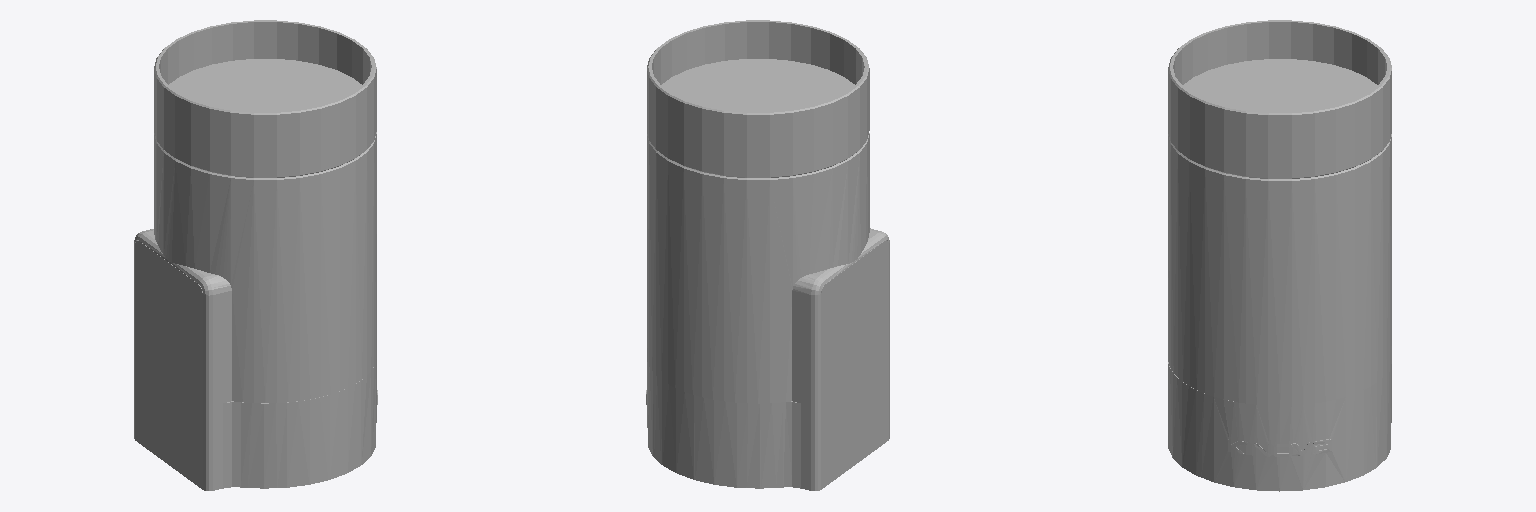
URDF robot description (gen3_robotiq_2f_85):
<?xml version="1.0" ?>
<!-- =================================================================================== -->
<!-- |    This document was autogenerated by xacro from gen3_robotiq_2f_85.xacro       | -->
<!-- |    EDITING THIS FILE BY HAND IS NOT RECOMMENDED                                 | -->
<!-- =================================================================================== -->
<robot name="gen3_robotiq_2f_85">
  <!-- Run the macros -->
  <link name="base_link">
    <inertial>
      <origin rpy="0 0 0" xyz="-0.000648 -0.000166 0.084487"/>
      <mass value="1.697"/>
      <inertia ixx="0.004622" ixy="9E-06" ixz="6E-05" iyy="0.004495" iyz="9E-06" izz="0.002079"/>
    </inertial>
    <visual>
      <origin rpy="0 0 0" xyz="0 0 0"/>
      <geometry>
        <mesh filename="package://kortex_description/arms/gen3/6dof/meshes/base_link.STL"/>
      </geometry>
      <material name="">
        <color rgba="0.75294 0.75294 0.75294 1"/>
      </material>
    </visual>
    <collision>
      <origin rpy="0 0 0" xyz="0 0 0"/>
      <geometry>
        <mesh filename="package://kortex_description/arms/gen3/6dof/meshes/base_link.STL"/>
      </geometry>
    </collision>
  </link>
  <link name="shoulder_link">
    <inertial>
      <origin rpy="0 0 0" xyz="-2.3E-05 -0.010364 -0.07336"/>
      <mass value="1.377"/>
      <inertia ixx="0.00457" ixy="1E-06" ixz="2E-06" iyy="0.004831" iyz="0.000448" izz="0.001409"/>
    </inertial>
    <visual>
      <origin rpy="0 0 0" xyz="0 0 0"/>
      <geometry>
        <mesh filename="package://kortex_description/arms/gen3/6dof/meshes/shoulder_link.STL"/>
      </geometry>
      <material name="">
        <color rgba="0.75294 0.75294 0.75294 1"/>
      </material>
    </visual>
    <collision>
      <origin rpy="0 0 0" xyz="0 0 0"/>
      <geometry>
        <mesh filename="package://kortex_description/arms/gen3/6dof/meshes/shoulder_link.STL"/>
      </geometry>
    </collision>
  </link>
  <joint name="joint_1" type="continuous">
    <origin rpy="-3.1416 0.0 0.0" xyz="0 0 0.15643"/>
    <parent link="base_link"/>
    <child link="shoulder_link"/>
    <axis xyz="0 0 1"/>
    <limit effort="39" velocity="1.3963"/>
  </joint>
  <link name="bicep_link">
    <inertial>
      <origin rpy="0 0 0" xyz="3.5E-05 -0.208207 -0.01889"/>
      <mass value="1.262"/>
      <inertia ixx="0.046752" ixy="-9E-06" ixz="0" iyy="0.00085" iyz="-9.8E-05" izz="0.047188"/>
    </inertial>
    <visual>
      <origin rpy="0 0 0" xyz="0 0 0"/>
      <geometry>
        <mesh filename="package://kortex_description/arms/gen3/6dof/meshes/bicep_link.STL"/>
      </geometry>
      <material name="">
        <color rgba="0.75294 0.75294 0.75294 1"/>
      </material>
    </visual>
    <collision>
      <origin rpy="0 0 0" xyz="0 0 0"/>
      <geometry>
        <mesh filename="package://kortex_description/arms/gen3/6dof/meshes/bicep_link.STL"/>
      </geometry>
    </collision>
  </link>
  <joint name="joint_2" type="revolute">
    <origin rpy="1.5708 0.0 0.0" xyz="0 0.005375 -0.12838"/>
    <parent link="shoulder_link"/>
    <child link="bicep_link"/>
    <axis xyz="0 0 1"/>
    <limit effort="39" lower="-2.41" upper="2.41" velocity="1.3963"/>
  </joint>
  <link name="forearm_link">
    <inertial>
      <origin rpy="0 0 0" xyz="1.8E-05 0.076168 -0.01397"/>
      <mass value="0.93"/>
      <inertia ixx="0.008292" ixy="-1E-06" ixz="0" iyy="0.000628" iyz="0.000432" izz="0.008464"/>
    </inertial>
    <visual>
      <origin rpy="0 0 0" xyz="0 0 0"/>
      <geometry>
        <mesh filename="package://kortex_description/arms/gen3/6dof/meshes/forearm_link.STL"/>
      </geometry>
      <material name="">
        <color rgba="0.75294 0.75294 0.75294 1"/>
      </material>
    </visual>
    <collision>
      <origin rpy="0 0 0" xyz="0 0 0"/>
      <geometry>
        <mesh filename="package://kortex_description/arms/gen3/6dof/meshes/forearm_link.STL"/>
      </geometry>
    </collision>
  </link>
  <joint name="joint_3" type="revolute">
    <origin rpy="3.1416 0 0" xyz="0 -0.41 0"/>
    <parent link="bicep_link"/>
    <child link="forearm_link"/>
    <axis xyz="0 0 1"/>
    <limit effort="39" lower="-2.66" upper="2.66" velocity="1.3963"/>
  </joint>
  <link name="spherical_wrist_1_link">
    <inertial>
      <origin rpy="0 0 0" xyz="-1E-06 0.008486 -0.062937"/>
      <mass value="0.6781"/>
      <inertia ixx="0.001645" ixy="0" ixz="0" iyy="0.001666" iyz="-0.000234" izz="0.000389"/>
    </inertial>
    <visual>
      <origin rpy="0 0 0" xyz="0 0 0"/>
      <geometry>
        <mesh filename="package://kortex_description/arms/gen3/6dof/meshes/spherical_wrist_1_link.STL"/>
      </geometry>
      <material name="">
        <color rgba="0.75294 0.75294 0.75294 1"/>
      </material>
    </visual>
    <collision>
      <origin rpy="0 0 0" xyz="0 0 0"/>
      <geometry>
        <mesh filename="package://kortex_description/arms/gen3/6dof/meshes/spherical_wrist_1_link.STL"/>
      </geometry>
    </collision>
  </link>
  <joint name="joint_4" type="continuous">
    <origin rpy="1.5708 0.0 0.0" xyz="0 0.20843 -0.006375"/>
    <parent link="forearm_link"/>
    <child link="spherical_wrist_1_link"/>
    <axis xyz="0 0 1"/>
    <limit effort="9" velocity="1.2218"/>
  </joint>
  <link name="spherical_wrist_2_link">
    <inertial>
      <origin rpy="0 0 0" xyz="-1E-06 0.046429 -0.008704"/>
      <mass value="0.678"/>
      <inertia ixx="0.001685" ixy="0" ixz="0" iyy="0.0004" iyz="0.000255" izz="0.001696"/>
    </inertial>
    <visual>
      <origin rpy="0 0 0" xyz="0 0 0"/>
      <geometry>
        <mesh filename="package://kortex_description/arms/gen3/6dof/meshes/spherical_wrist_2_link.STL"/>
      </geometry>
      <material name="">
        <color rgba="0.75294 0.75294 0.75294 1"/>
      </material>
    </visual>
    <collision>
      <origin rpy="0 0 0" xyz="0 0 0"/>
      <geometry>
        <mesh filename="package://kortex_description/arms/gen3/6dof/meshes/spherical_wrist_2_link.STL"/>
      </geometry>
    </collision>
  </link>
  <joint name="joint_5" type="revolute">
    <origin rpy="-1.5708 0.0 0.0" xyz="0 -0.00017505 -0.10593"/>
    <parent link="spherical_wrist_1_link"/>
    <child link="spherical_wrist_2_link"/>
    <axis xyz="0 0 1"/>
    <limit effort="9" lower="-2.23" upper="2.23" velocity="1.2218"/>
  </joint>
  <link name="bracelet_link">
    <inertial>
      <origin rpy="0 0 0" xyz="-9.3E-05 0.000132 -0.022905"/>
      <mass value="0.364"/>
      <inertia ixx="0.000214" ixy="0" ixz="1E-06" iyy="0.000223" iyz="-2E-06" izz="0.00024"/>
    </inertial>
    <visual>
      <origin rpy="0 0 0" xyz="0 0 0"/>
      <geometry>
        <mesh filename="package://kortex_description/arms/gen3/6dof/meshes/bracelet_no_vision_link.STL"/>
      </geometry>
      <material name="">
        <color rgba="0.75294 0.75294 0.75294 1"/>
      </material>
    </visual>
    <collision>
      <origin rpy="0 0 0" xyz="0 0 0"/>
      <geometry>
        <mesh filename="package://kortex_description/arms/gen3/6dof/meshes/bracelet_no_vision_link.STL"/>
      </geometry>
    </collision>
  </link>
  <joint name="joint_6" type="continuous">
    <origin rpy="1.5708 0.0 0.0" xyz="0 0.10593 -0.00017505"/>
    <parent link="spherical_wrist_2_link"/>
    <child link="bracelet_link"/>
    <axis xyz="0 0 1"/>
    <limit effort="9" velocity="1.2218"/>
  </joint>
  <link name="end_effector_link"/>
  <joint name="end_effector" type="fixed">
    <origin rpy="3.14159265358979 1.09937075168372E-32 3.14159265358979" xyz="0 0 -0.0615250000000001"/>
    <parent link="bracelet_link"/>
    <child link="end_effector_link"/>
    <axis xyz="0 0 0"/>
  </joint>
  <link name="tool_frame"/>
  <joint name="tool_frame_joint" type="fixed">
    <origin rpy="0 0 0" xyz="0 0 0"/>
    <parent link="end_effector_link"/>
    <child link="tool_frame"/>
    <axis xyz="0 0 0"/>
  </joint>
</robot>

--- Facts derived from the render (not from the file) ---
Views: 3 orthographic renders of the robot side by side, from view 1: azimuth 30°, elevation 25°; view 2: azimuth 150°, elevation 25°; view 3: azimuth 270°, elevation 25°.
Model gen3_robotiq_2f_85 with 9 links and 8 joints (3 revolute, 3 continuous, 2 fixed), rooted at base_link, posed every joint at zero.
Visible links, largest first — view 1: base_link; view 2: base_link; view 3: base_link.
Boxes of the visible links, x1=… form: base_link: x1=134, y1=20, x2=377, y2=490; base_link: x1=646, y1=20, x2=889, y2=490; base_link: x1=1168, y1=20, x2=1391, y2=491.
Bounding box of the posed robot: 0.0925 × 0.0922 × 0.1708 m (x, y, z).
Meshes: 7 distinct files referenced, 1 mesh visuals loaded (1 binary STL); not drawn: 6 (reference not matched to a file when rendering).